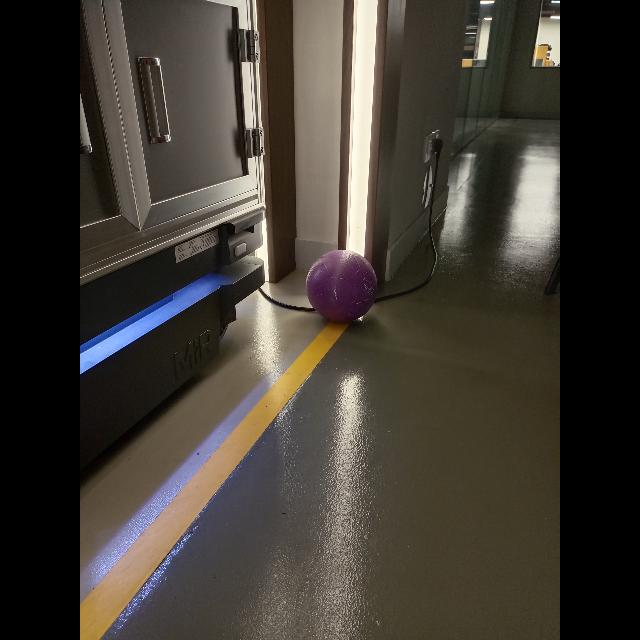P: (306, 250, 378, 324)
